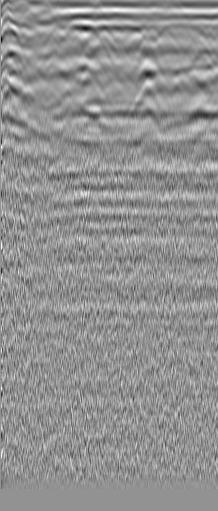오수: (25, 26, 45, 46)
우수: (156, 26, 176, 46)
